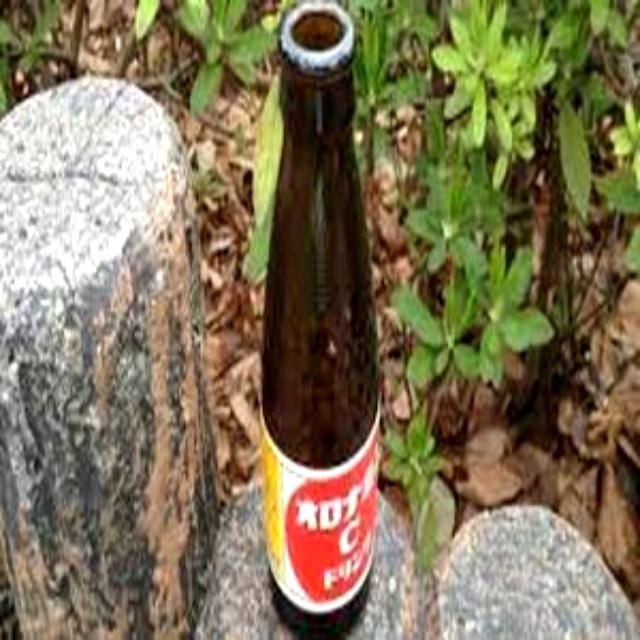Glass: (264, 0, 380, 640)
